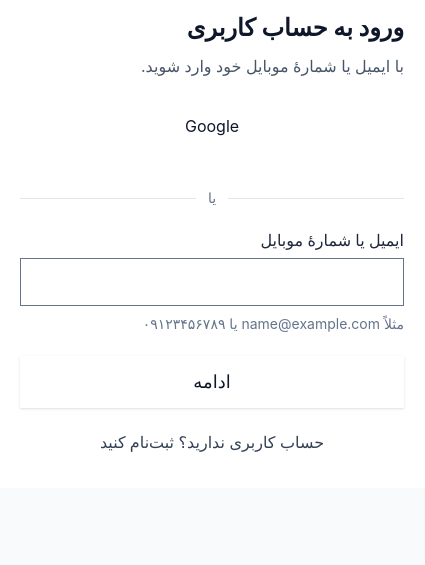
Test case: Google sign-in › a 429 with the focus elsewhere leaves it there
Click the field labelled "ایمیل یا شمارهٔ موبایل". click: [212, 282]
box: [21,259,403,305]
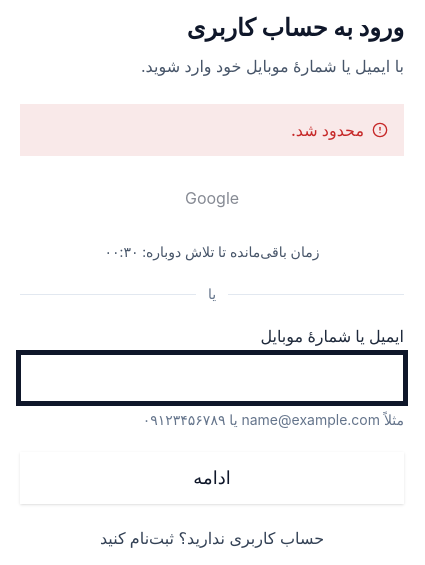
Expected: the text "زمان باقی‌مانده تا تلاش دوباره: ۰۰:۳۰" is shown, [105,243,319,260]
